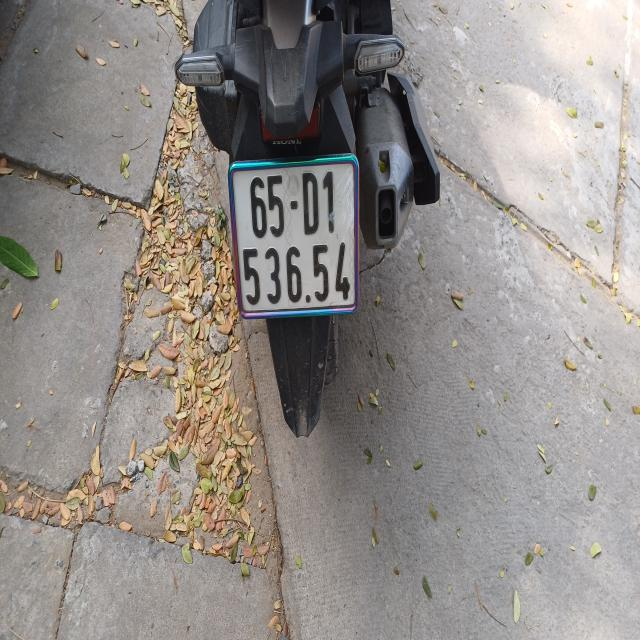1: (322, 167, 340, 237)
3: (266, 242, 281, 306)
4: (335, 238, 351, 300)
5: (266, 173, 286, 238), (242, 244, 260, 308), (313, 240, 330, 304)
6: (248, 173, 268, 239), (284, 239, 302, 303)
D: (301, 171, 321, 237)
